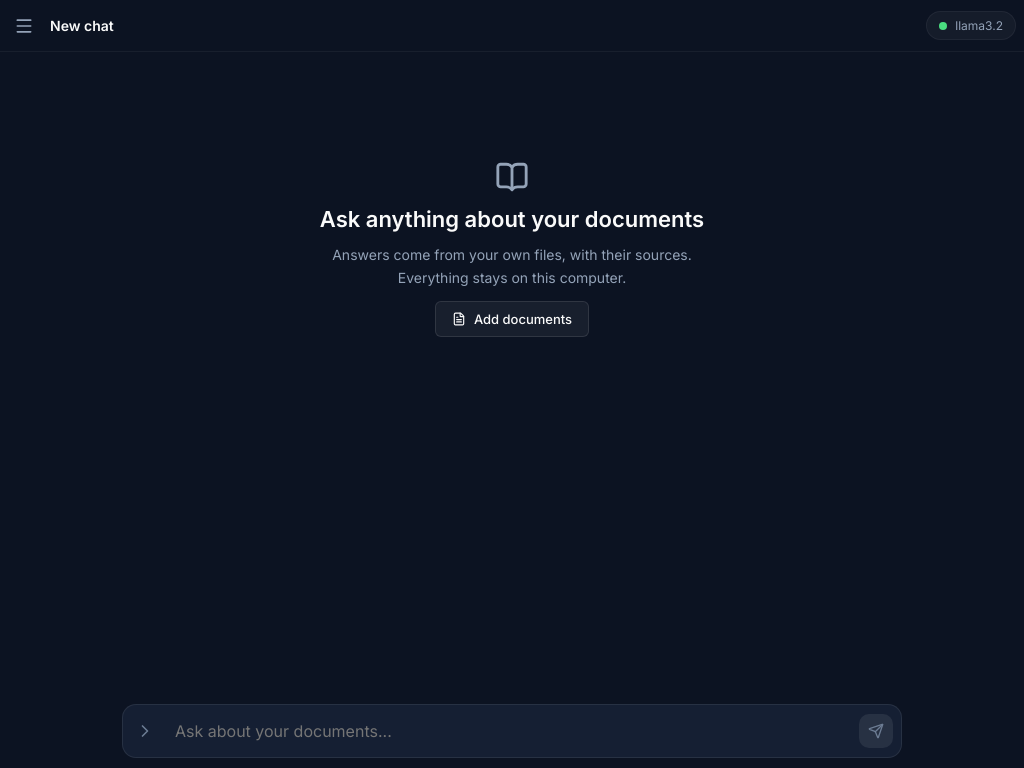
Test: on a phone › the sidebar is a menu that slides in, and closes when a chat is opened
Expected: the field with placeholder "Ask about your documents..." is shown, top-left (167, 711), bottom-right (855, 751)
Click the button named "Open menu". click: (24, 26)
box: top-left (8, 10), bottom-right (40, 42)
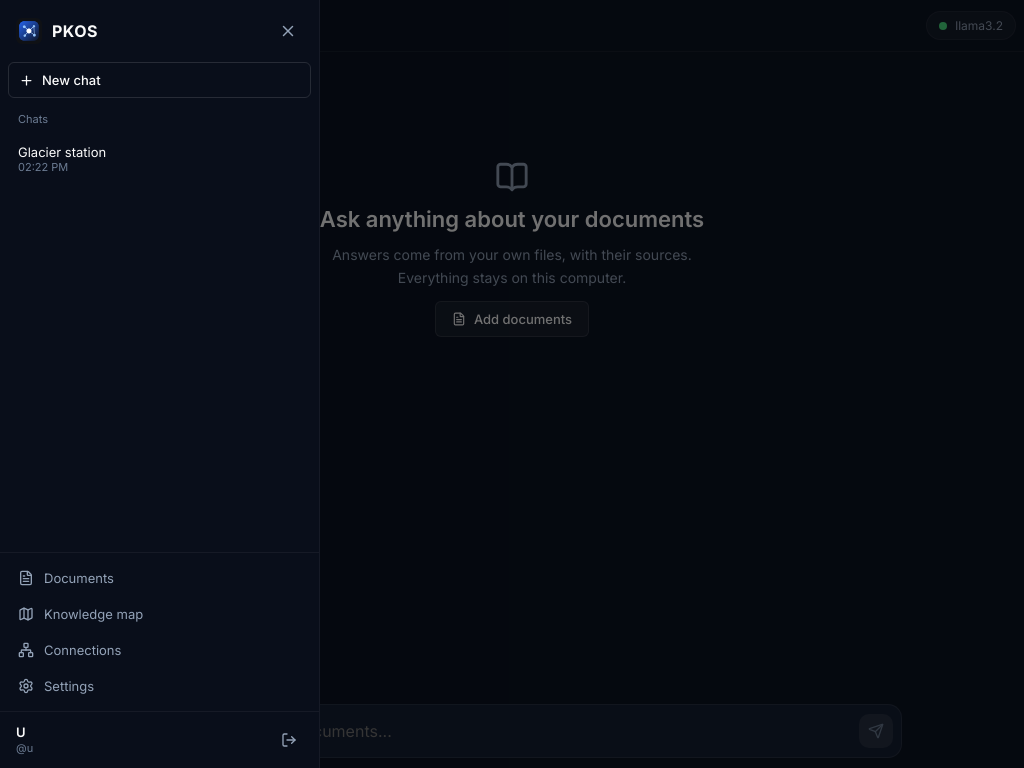
Expected: the navigation bar "PKOS" has class "open", top-left (0, 0), bottom-right (320, 767)
Click the text "Glacier station". click: (62, 152)
box: top-left (18, 144), bottom-right (106, 160)
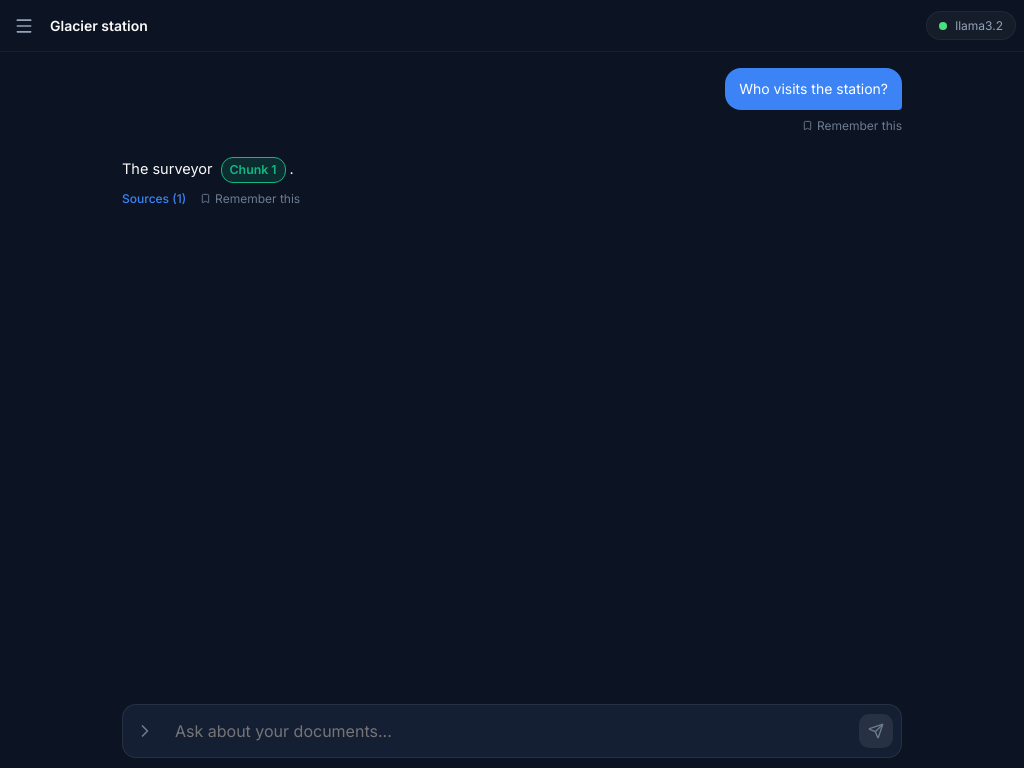
Expected: the text "Who visits the station?" is shown, top-left (725, 68), bottom-right (902, 110)
